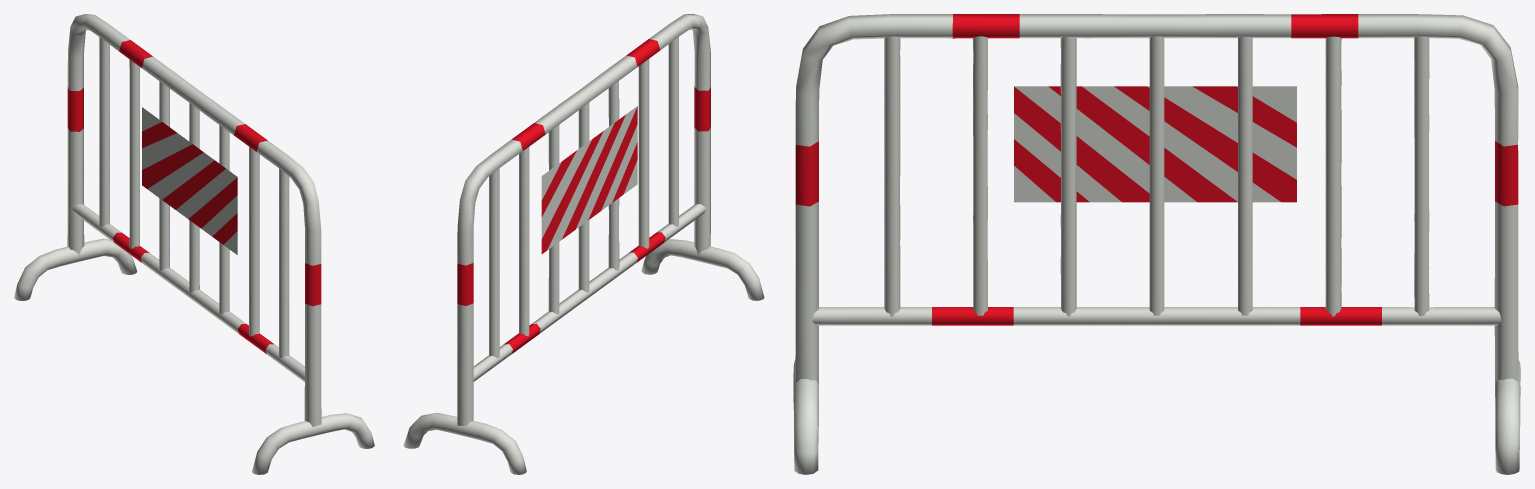
Rendered from obstacle.fbx.
3 renders of one model, left to right at view 1: azimuth 30°, elevation 25°; view 2: azimuth 150°, elevation 25°; view 3: azimuth 270°, elevation 25°, orthographic. The views are drawn at different scales.
Parts seen in each view (by area): view 1: Retopo_Fence_Cylinder.001; view 2: Retopo_Fence_Cylinder.001; view 3: Retopo_Fence_Cylinder.001.
Part boxes in pixels (x1,y1,x2,y2): Retopo_Fence_Cylinder.001: (14, 14, 374, 474); Retopo_Fence_Cylinder.001: (403, 14, 764, 474); Retopo_Fence_Cylinder.001: (793, 14, 1520, 474).
Bounding box in the file's own units: 57.91 × 129 × 204.
